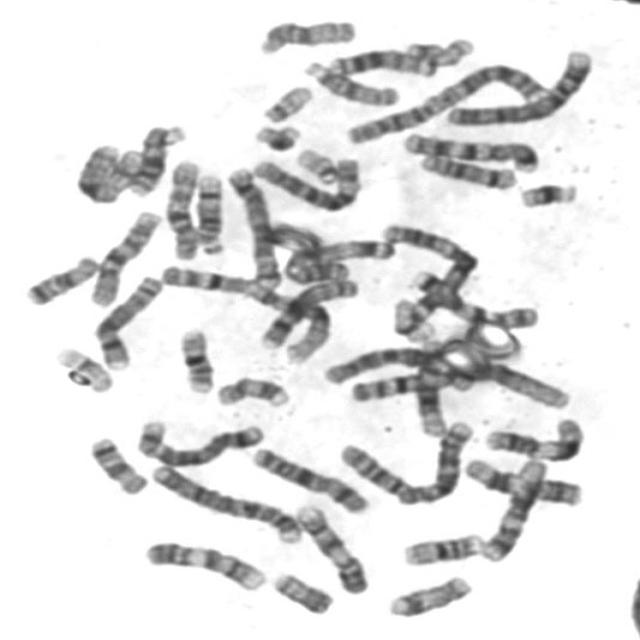A1: (151, 257, 339, 367), (332, 351, 578, 412)
A2: (338, 57, 552, 145), (331, 412, 477, 508)
A3: (373, 215, 483, 325), (275, 232, 399, 288)
B4: (143, 458, 306, 546), (438, 42, 598, 128)
B5: (218, 159, 284, 291), (130, 412, 268, 468)
C10: (82, 202, 165, 308), (157, 152, 204, 261)
C11: (458, 452, 587, 508), (478, 410, 587, 462)
C12: (473, 453, 551, 563), (407, 334, 453, 438)
C6: (321, 346, 480, 395), (245, 149, 366, 213)
C7: (403, 263, 543, 331), (396, 126, 543, 173)
C8: (252, 272, 363, 352), (86, 268, 167, 372)
C9: (288, 498, 372, 596), (137, 534, 270, 594)
D13: (122, 116, 188, 198), (323, 42, 439, 78)
D14: (412, 147, 520, 192), (187, 166, 228, 256)
D15: (296, 54, 404, 108), (251, 12, 360, 56)
E16: (395, 526, 488, 567), (172, 321, 218, 395)
E17: (380, 568, 476, 620), (209, 370, 294, 409)
E18: (17, 248, 102, 308), (82, 430, 151, 496)
F19: (48, 340, 117, 394), (384, 291, 440, 345)
F20: (397, 30, 478, 67), (272, 572, 336, 617)
G21: (512, 175, 581, 210), (246, 116, 305, 153)
G22: (254, 77, 316, 124), (290, 141, 344, 186)
X: (245, 441, 373, 516), (68, 138, 146, 206)
